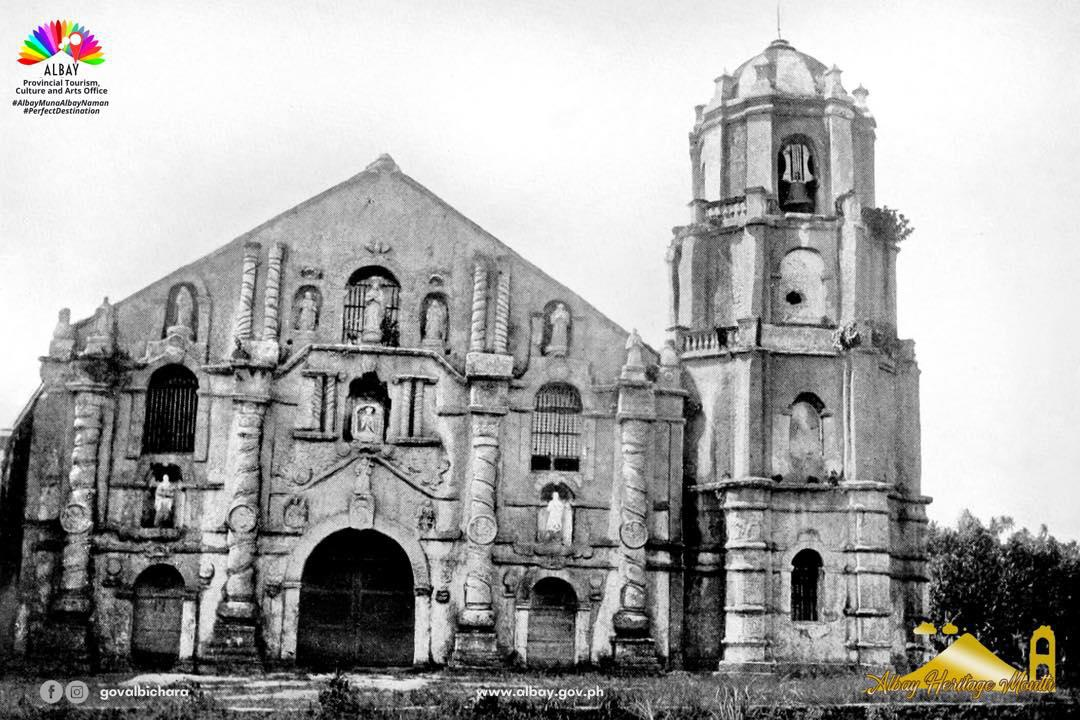daraga_church_daraga_albay: (20, 6, 938, 674)
vegetation_damage: (858, 199, 911, 253)
